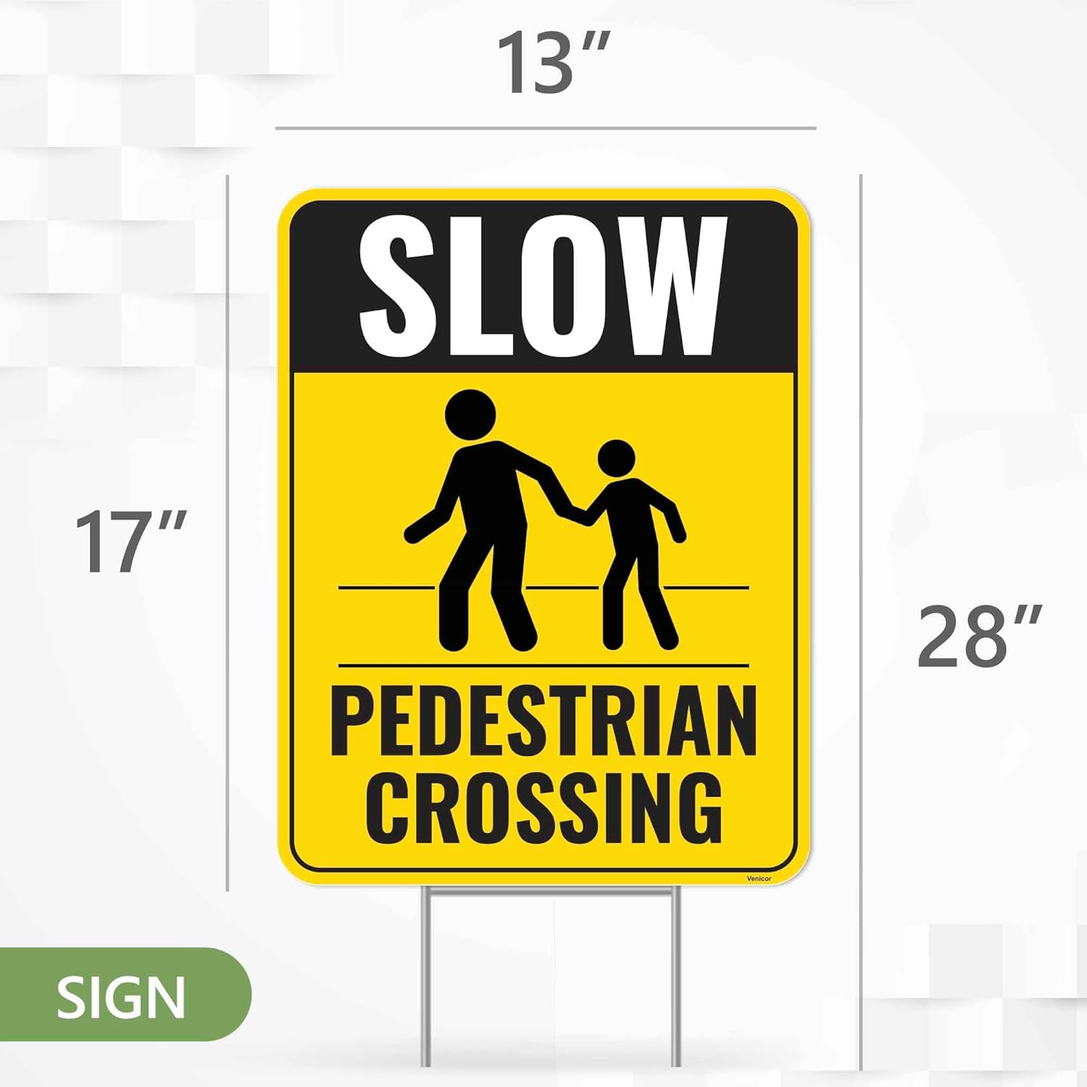CrossSign: (271, 183, 817, 888)
